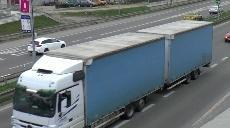Car: (28, 36, 66, 56), (76, 0, 92, 7)
Truck: (11, 21, 213, 128)
